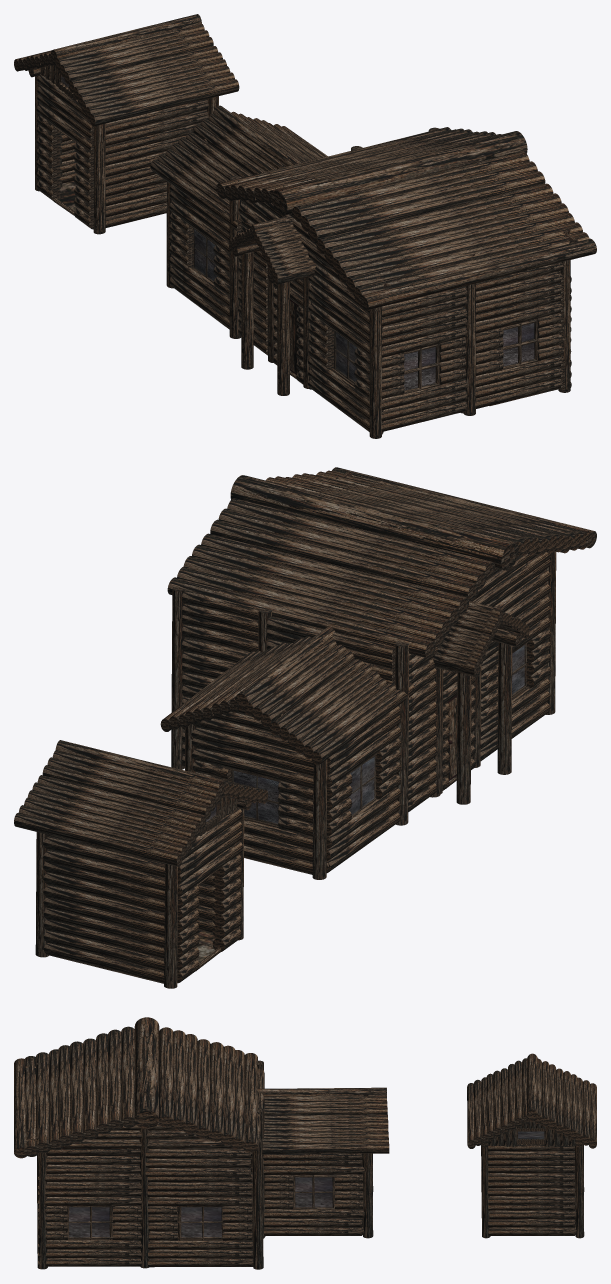
Rendered from Cabin.fbx.
The picture shows the model from 3 angles, top to bottom: view 1: azimuth 30°, elevation 25°; view 2: azimuth 150°, elevation 25°; view 3: azimuth 270°, elevation 25°; orthographic projection. The views are drawn at different scales.
Visible parts, largest first — view 1: Cabin, Cube; view 2: Cabin, Cube; view 3: Cabin, Cube.
Part boxes in pixels (<box>): Cabin: <box>14,14,596,438</box>; Cube: <box>61,75,534,390</box>; Cabin: <box>14,467,596,988</box>; Cube: <box>206,645,524,823</box>; Cabin: <box>14,1017,596,1269</box>; Cube: <box>69,1131,544,1237</box>.
Bounding box in the file's own units: 1602 × 1280 × 4037.
52 materials, 52 textured.
